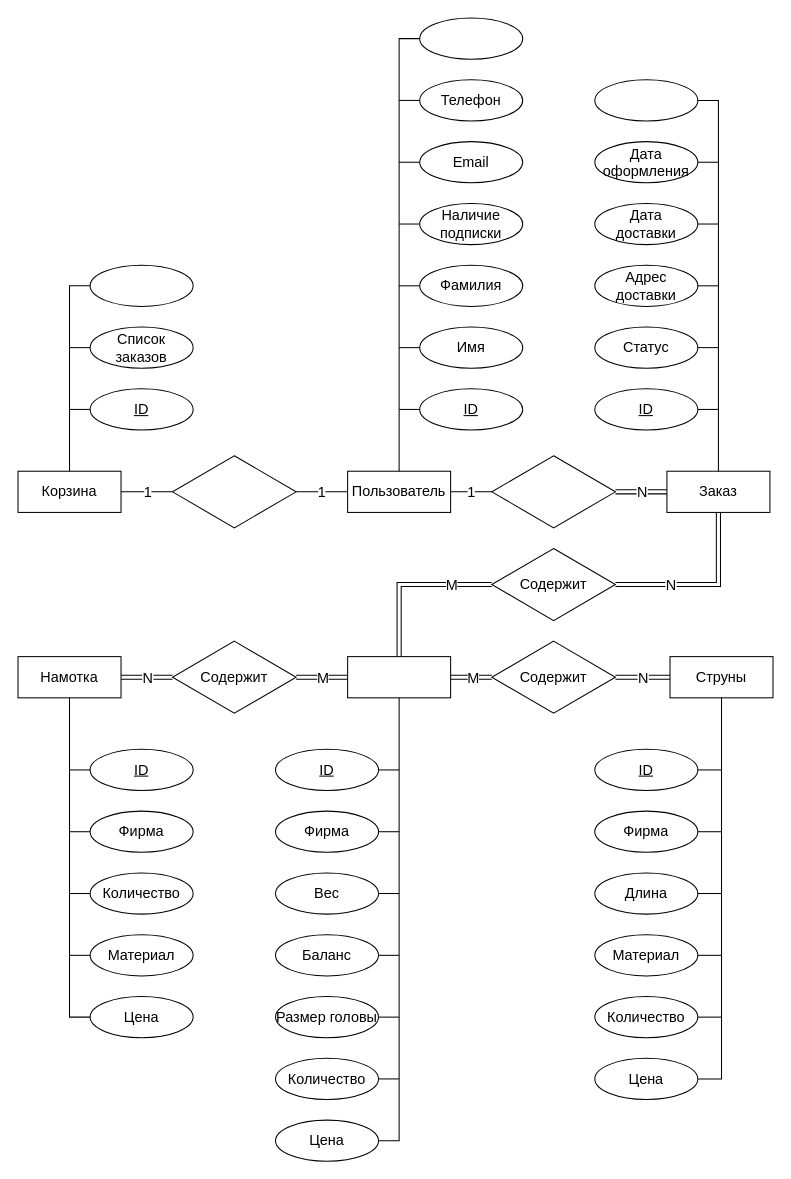
Some shapes in this 791 by 1179 pixel diagram are drawn without their labels. The shapes that lost their labels are listed below. From the top down, each one's centre as x and y in pixels, then its label:
the point at 471,38: Баланс баллов
the point at 646,100: Сумма заказа
the point at 141,285: Сумма
the point at 233,491: Обладает
the point at 553,491: Заказывает
the point at 399,677: Ракетка
